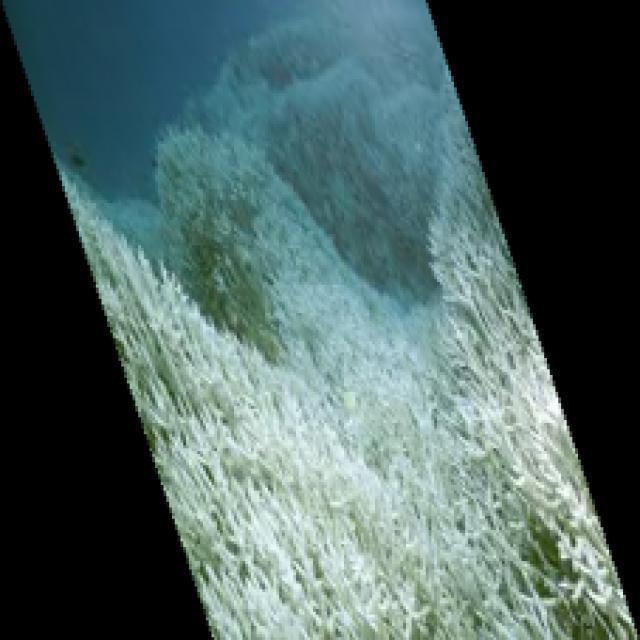Bleached: (52, 162, 428, 640), (421, 114, 640, 640), (150, 1, 469, 165)
